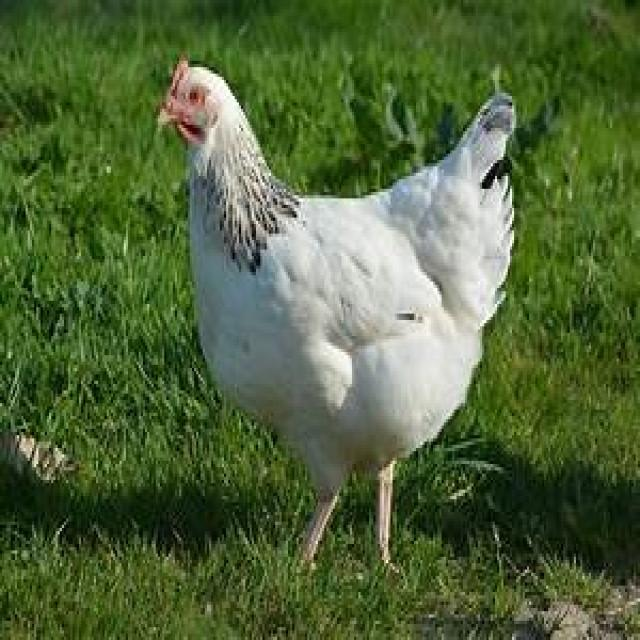hen: (160, 62, 515, 562)
